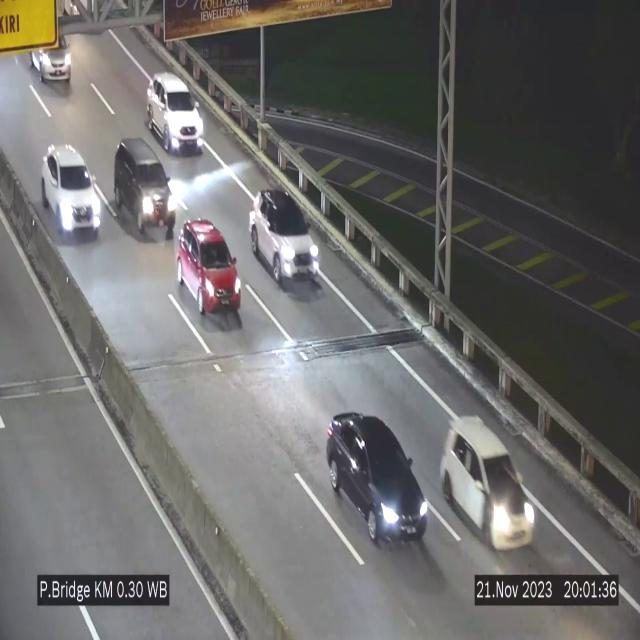Car: (326, 412, 428, 548), (440, 416, 536, 550), (178, 219, 242, 328), (249, 188, 321, 284), (114, 139, 172, 239), (42, 144, 102, 236), (146, 73, 204, 154), (28, 27, 82, 89)
